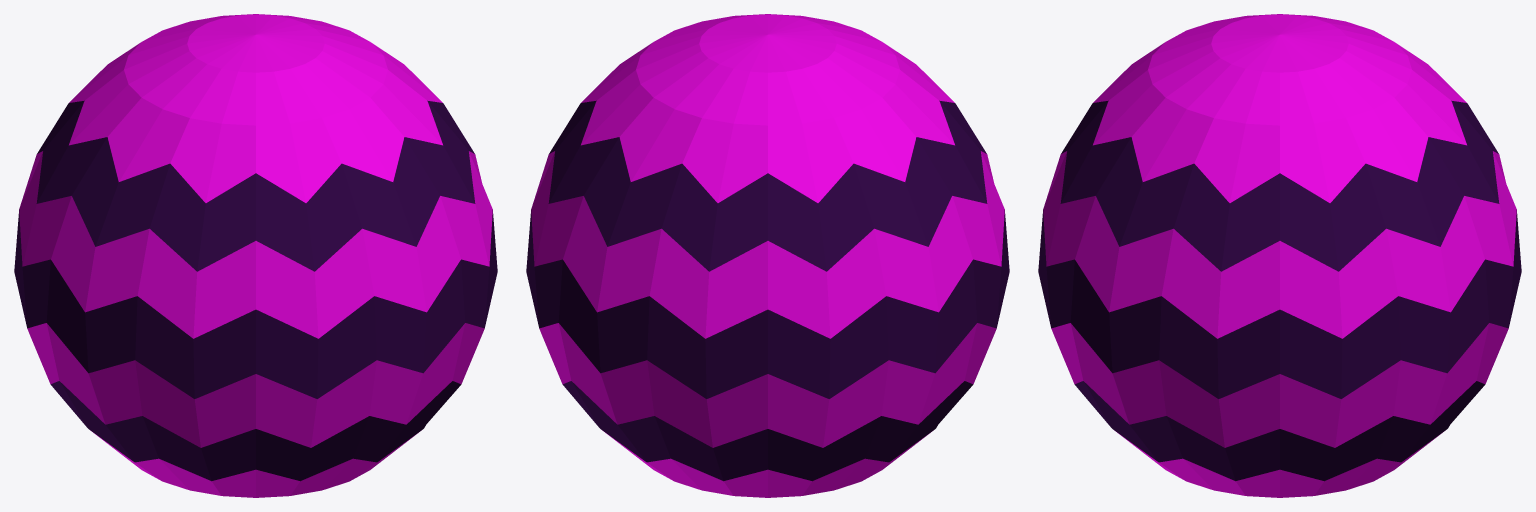
The model's file is Sphere_ZigZag.fbx.
3 renders of one model, left to right at view 1: azimuth 30°, elevation 25°; view 2: azimuth 150°, elevation 25°; view 3: azimuth 270°, elevation 25°, orthographic.
Parts seen in each view (by area): view 1: Sphere; view 2: Sphere; view 3: Sphere.
Part boxes in pixels (x1,y1,x2,y2): Sphere: (14, 14, 497, 497); Sphere: (526, 14, 1009, 497); Sphere: (1038, 14, 1521, 497).
Size of the model in its own units: 198 by 200 by 198.
